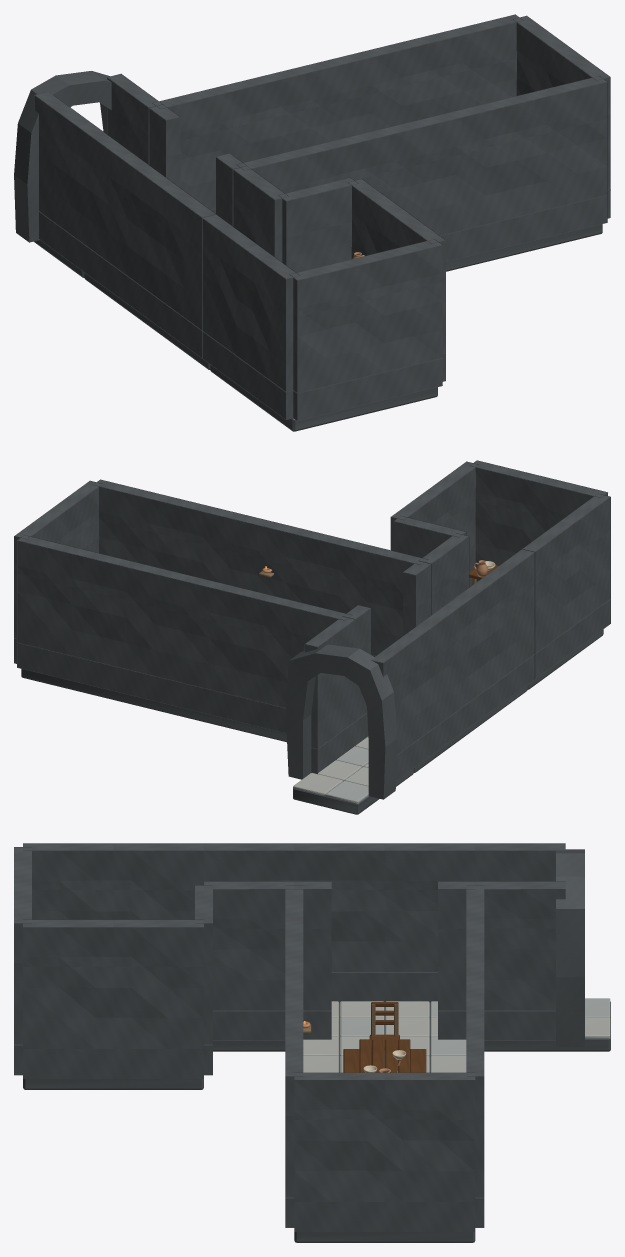
The model's file is retreat_global_a3.glb.
The picture shows the model from 3 angles, top to bottom: view 1: azimuth 30°, elevation 25°; view 2: azimuth 150°, elevation 25°; view 3: azimuth 270°, elevation 25°; orthographic projection. The views are drawn at different scales.
Visible parts, largest first — view 1: Dining_North_Upper, Dining_South_Upper, West_Entry_Hall_Upper, Kitchen_North_Upper, Kitchen_West_Upper, Kitchen_South_Upper, Rock_Cut_Entrance, West_Entry_Hall_Base, Dining_North_Base, Dining_East_Upper, Kitchen_East_Upper, Kitchen_North_Base (+8 smaller); view 2: Dining_South_Upper, Dining_North_Upper, West_Entry_Hall_Upper, Kitchen_West_Upper, Rock_Cut_Entrance, Kitchen_North_Upper, Dining_South_Base, East_Entry_Upper, Kitchen_East_Upper, Dining_East_Upper, West_Entry_Hall_Base, Floor_Entrance (+9 smaller); view 3: Dining_East_Upper, West_Entry_Hall_Upper, Kitchen_East_Upper, Kitchen_West_Upper, Hall_East_Upper, East_Entry_Upper, Rock_Cut_Entrance, Dining_East_Base, Kitchen_East_Base, Floor_Dining, Dining_South_Upper, Dining_North_Upper (+14 smaller).
Part boxes in pixels (x1,y1,x2,y2): Dining_North_Upper: (236, 76, 607, 235); Dining_South_Upper: (152, 14, 523, 209); West_Entry_Hall_Upper: (34, 91, 215, 330); Kitchen_North_Upper: (289, 239, 442, 393); Kitchen_West_Upper: (202, 214, 299, 391); Kitchen_South_Upper: (278, 177, 358, 272); Rock_Cut_Entrance: (14, 71, 111, 242); West_Entry_Hall_Base: (39, 211, 202, 357); Dining_North_Base: (440, 195, 607, 261); Dining_East_Upper: (512, 15, 610, 190); Kitchen_East_Upper: (348, 179, 445, 353); Kitchen_North_Base: (293, 358, 442, 421); Dining_South_Upper: (17, 535, 352, 707); Dining_North_Upper: (93, 479, 428, 655); West_Entry_Hall_Upper: (371, 549, 534, 754); Kitchen_West_Upper: (522, 493, 610, 653); Rock_Cut_Entrance: (286, 644, 397, 799); Kitchen_North_Upper: (469, 460, 607, 566); Dining_South_Base: (17, 642, 286, 733); East_Entry_Upper: (304, 616, 355, 749); Kitchen_East_Upper: (390, 461, 479, 571); Dining_East_Upper: (14, 480, 102, 638); West_Entry_Hall_Base: (396, 654, 534, 780); Floor_Entrance: (293, 746, 413, 814); Dining_East_Upper: (294, 1072, 475, 1201); West_Entry_Hall_Upper: (204, 843, 565, 972); Kitchen_East_Upper: (23, 919, 203, 1048); Kitchen_West_Upper: (23, 843, 203, 919); Hall_East_Upper: (204, 881, 294, 1010); East_Entry_Upper: (475, 881, 565, 1010); Rock_Cut_Entrance: (556, 849, 584, 1046); Dining_East_Base: (294, 1202, 475, 1231); Kitchen_East_Base: (23, 1049, 203, 1078); Floor_Dining: (294, 1036, 475, 1242); Dining_South_Upper: (466, 885, 484, 1197); Dining_North_Upper: (285, 885, 303, 1197).
Bounding box in the file's own units: 9.53 × 3.17 × 9.9.
12 materials, 2 textured.
